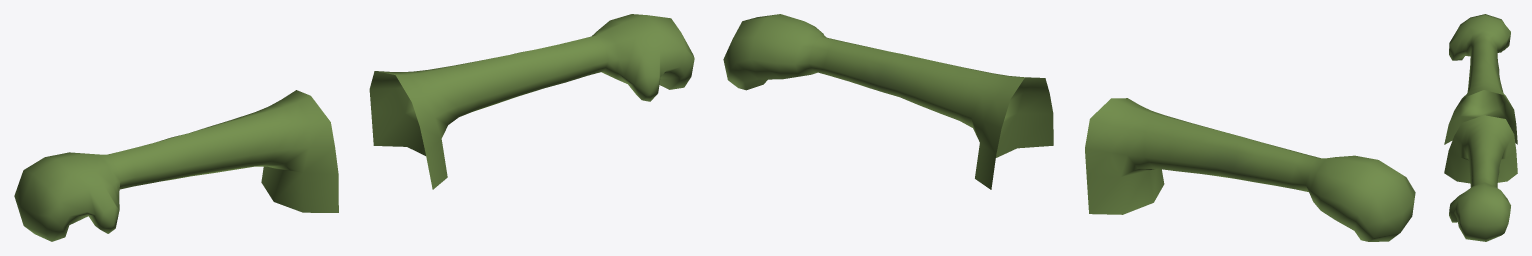
Rendered from Body_Green_ArmB_1.fbx.
3 views of the same model, side by side, from view 1: azimuth 30°, elevation 25°; view 2: azimuth 150°, elevation 25°; view 3: azimuth 270°, elevation 25° (orthographic). The views are drawn at different scales.
Parts seen in each view (by area): view 1: Body_Green_ArmB_1; view 2: Body_Green_ArmB_1; view 3: Body_Green_ArmB_1.
Boxes of the visible parts, x1,y1,x2,y2 form: Body_Green_ArmB_1: [14, 14, 694, 241]; Body_Green_ArmB_1: [723, 14, 1415, 241]; Body_Green_ArmB_1: [1444, 14, 1517, 241].
Bounding box in the file's own units: 130 × 17.74 × 20.37.
